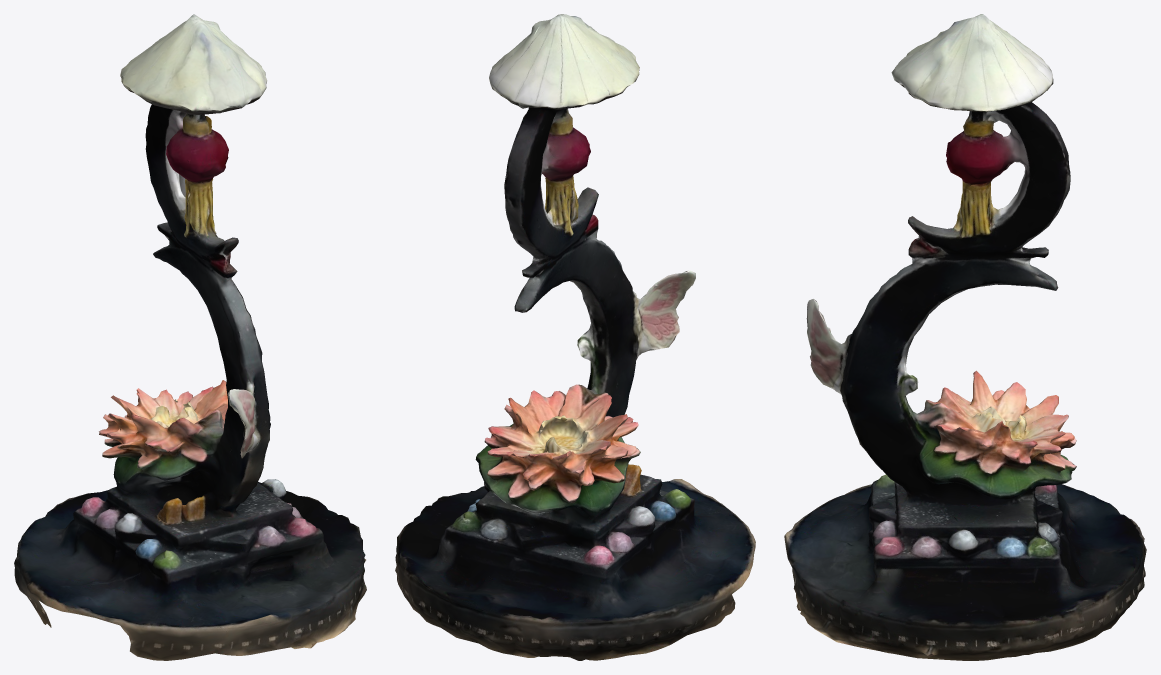
Rendered from lanterm.glb.
3 views of the same model, side by side, from view 1: azimuth 30°, elevation 25°; view 2: azimuth 150°, elevation 25°; view 3: azimuth 270°, elevation 25° (orthographic).
Bounding box in the file's own units: 0.4176 × 0.7395 × 0.4159.
1 material, 1 textured.
